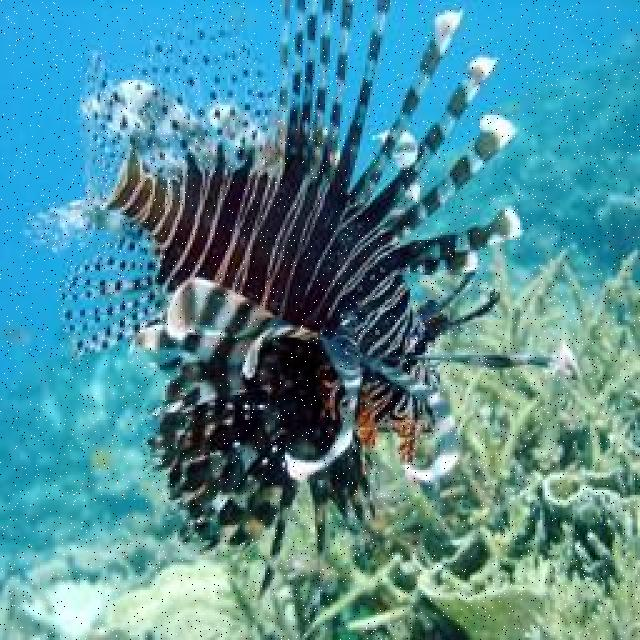fish: (26, 0, 584, 600)
reefs: (307, 241, 638, 633)
